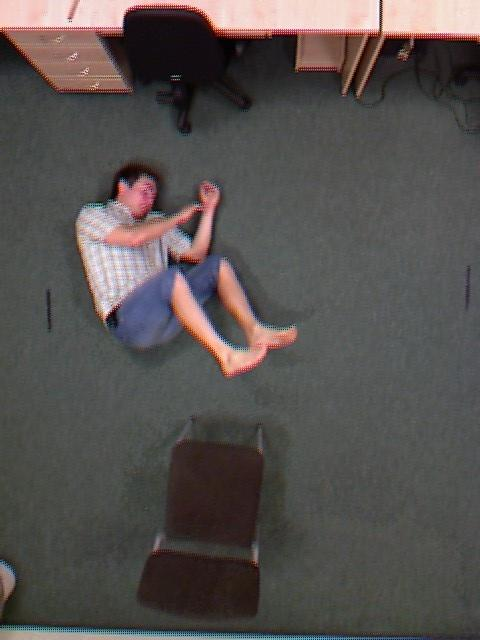fall: (107, 110, 267, 421)
